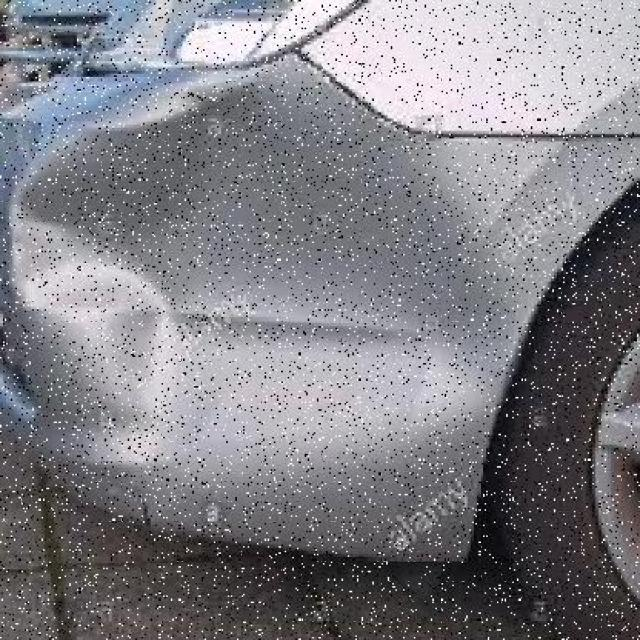car damage: (9, 51, 523, 512)
